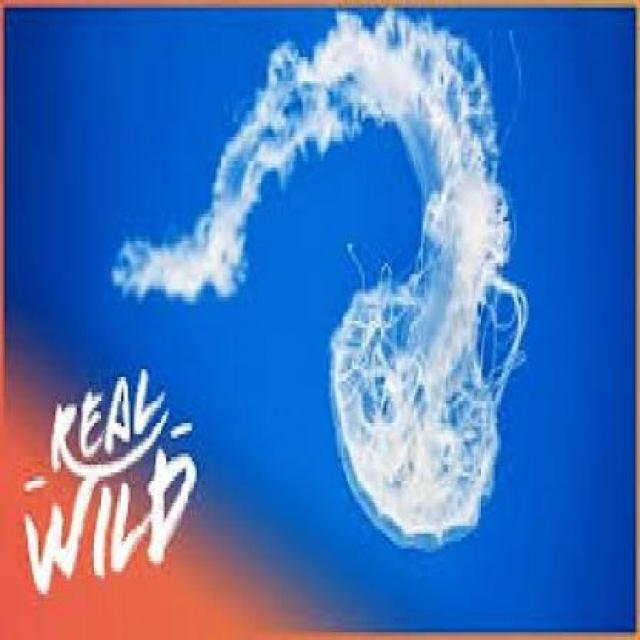Jellyfish: (319, 61, 532, 548)
